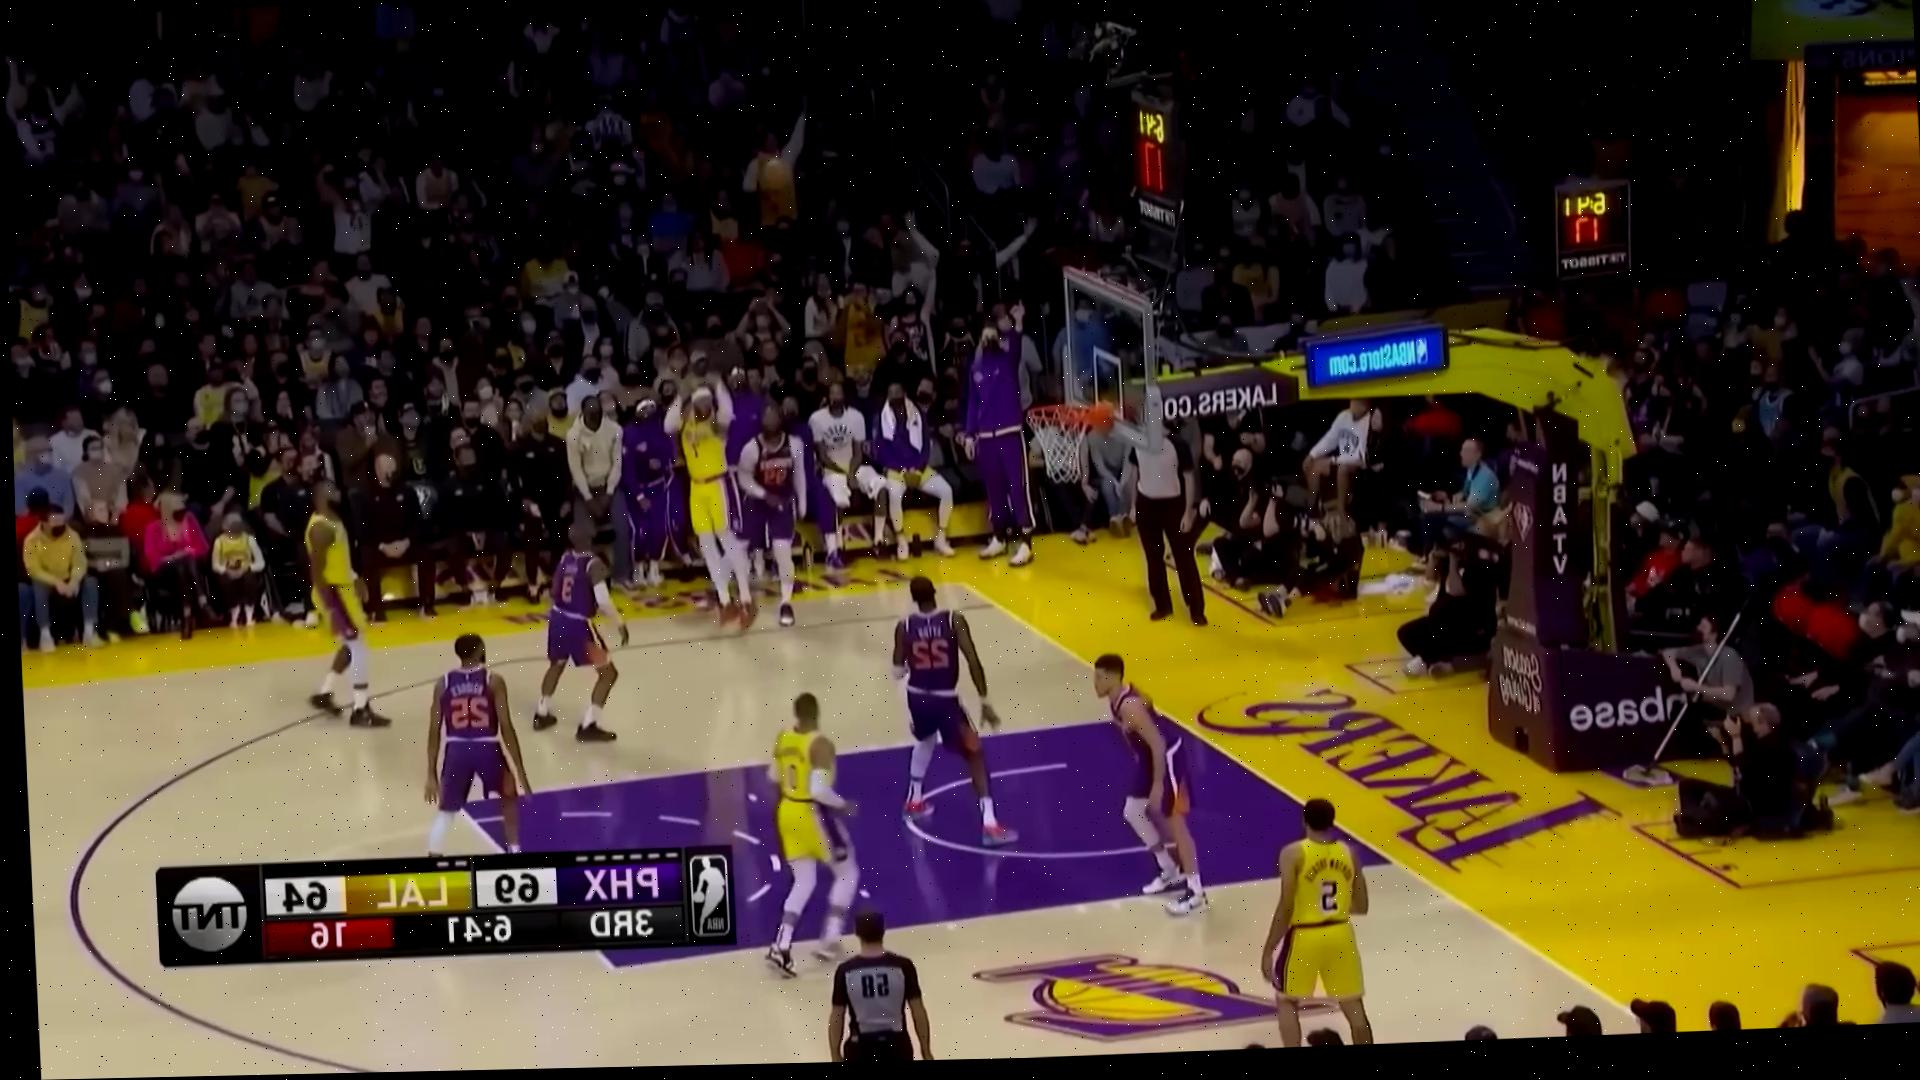no_foul: (853, 563, 1027, 864)
